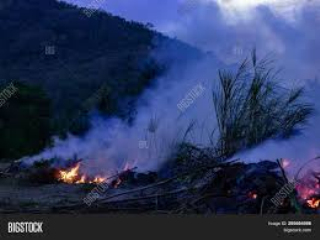fire: (54, 161, 107, 191)
smoke: (14, 91, 179, 163), (231, 110, 318, 173)
